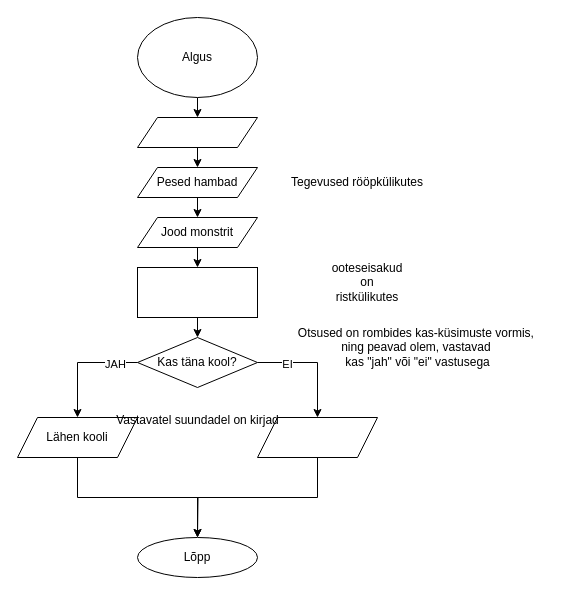
Image size: 565x595. Some labels were removed from this diagram. Here are the shapes that lost their labels. From the top down, the centre of each, then its label:
At [197,132]: "Ärkad üles".
At [197,292]: "ootad kuni üles ärkad".
At [317,437]: "pelun".
